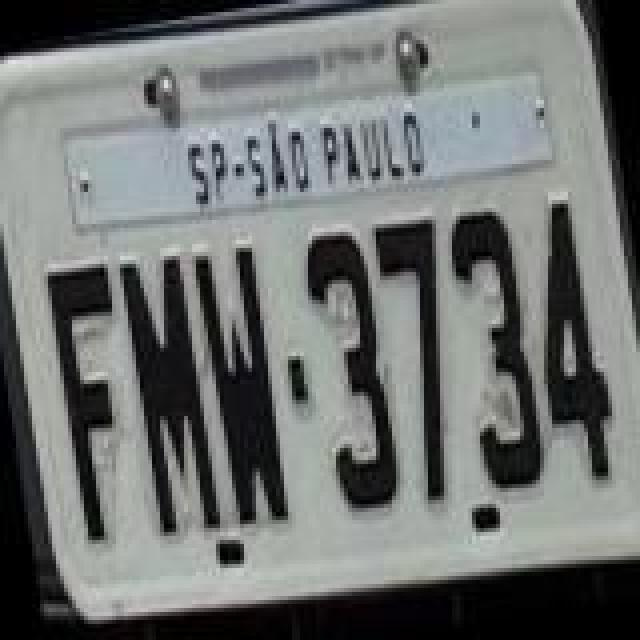3: (298, 222, 406, 514), (444, 206, 548, 498)
4: (514, 198, 622, 490)
7: (370, 212, 478, 508)
F: (42, 256, 150, 544)
M: (114, 252, 222, 540)
W: (192, 240, 296, 528)
